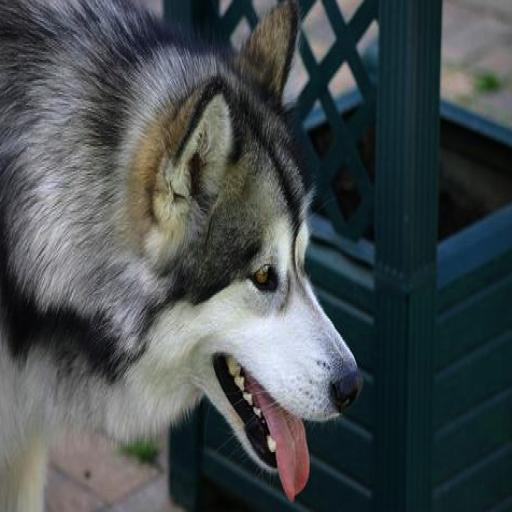dog_face: (166, 25, 375, 479)
